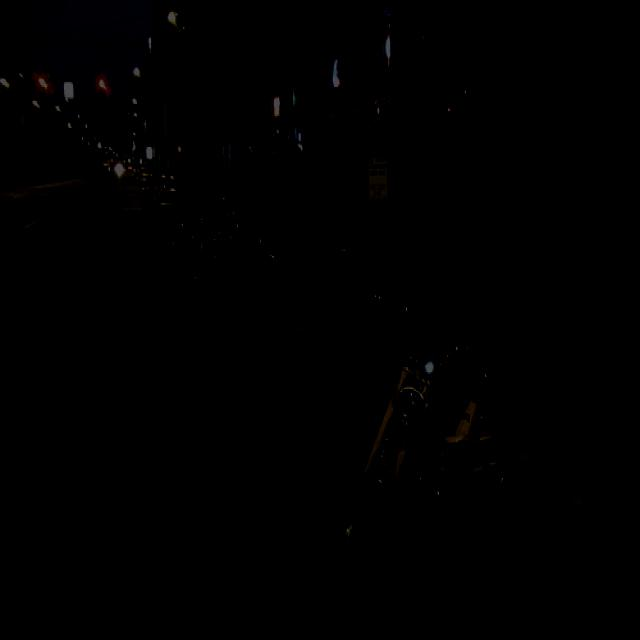Motorbike: (333, 376, 562, 614), (178, 224, 386, 356), (172, 188, 250, 278)
